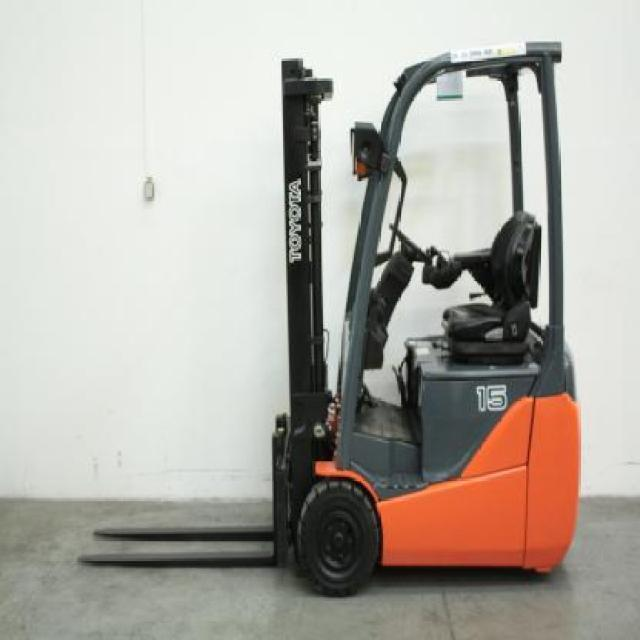forklift: (273, 60, 579, 600)
